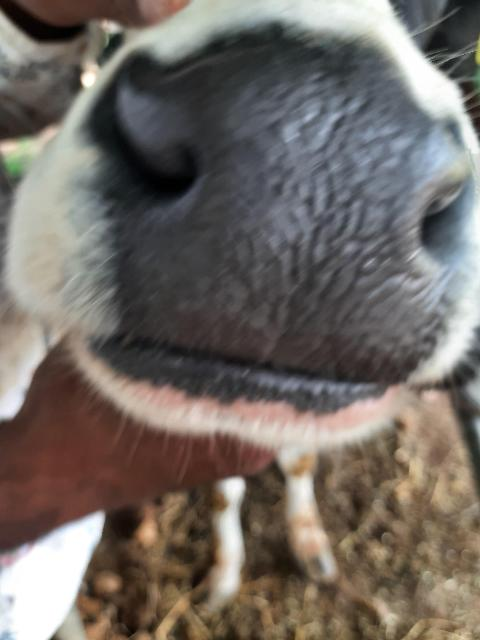Muzzle: (101, 60, 457, 382)
